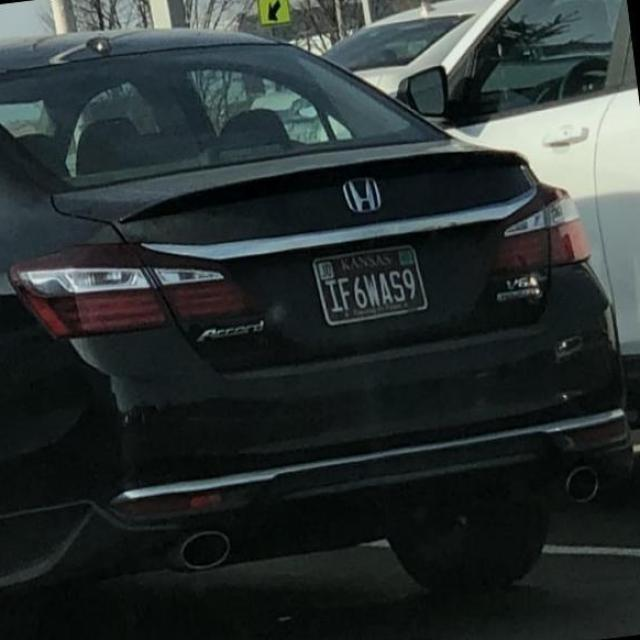license-plate: (285, 215, 495, 352)
